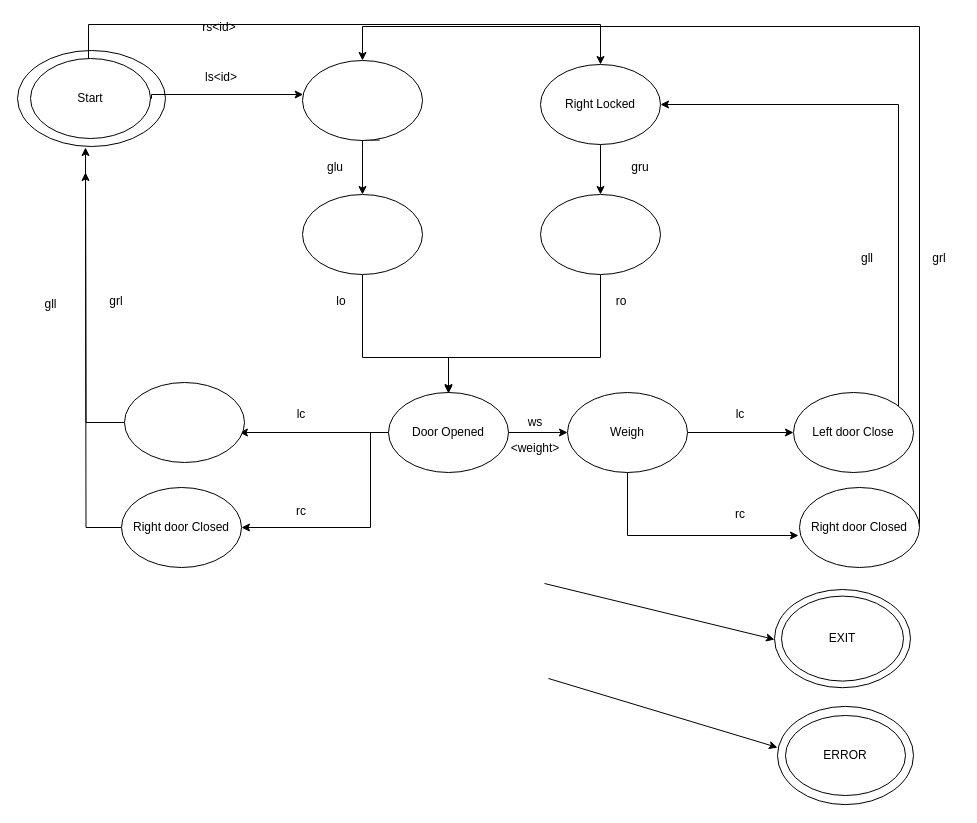
Image size: 977x823. Some labels were removed from this diagram. The shapes that lost their labels are listed below. From the top down, each one's centre as x and y in pixels, then its label:
At (362,100): "Left Locked".
At (362,234): "Left Unlocked".
At (600,234): "Right Unlocked".
At (184,422): "Left door Closed".
